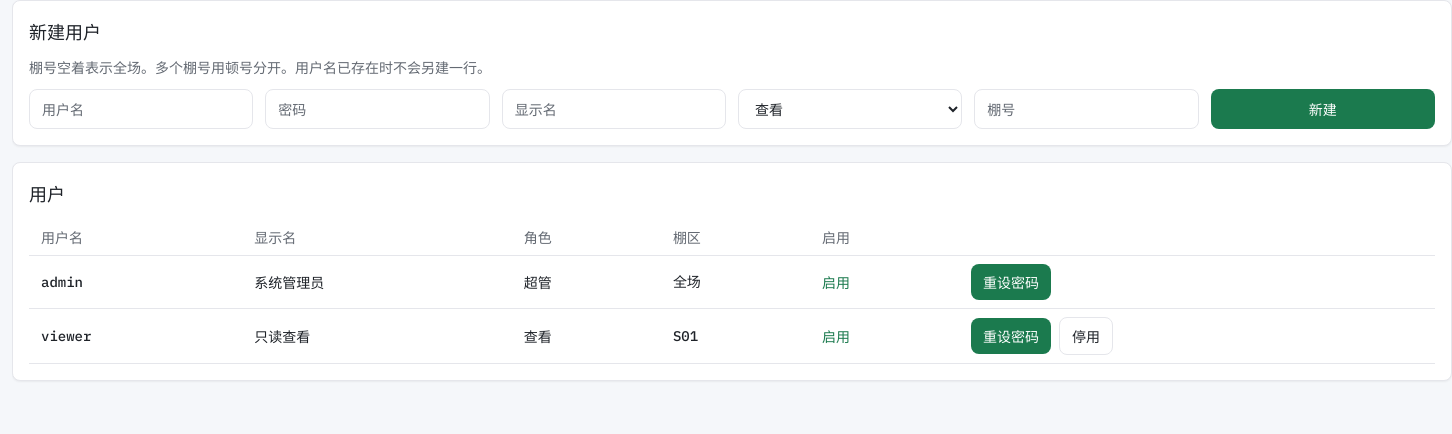
UsersView › toggles enable on another user and shows 启用 then 停用
Expected: the cell "启用" in the row of "viewer" is shown, [822, 326, 850, 346]
Click the button with test id "user-enabled-viewer".
click(1086, 336)  # box [1059, 317, 1113, 355]
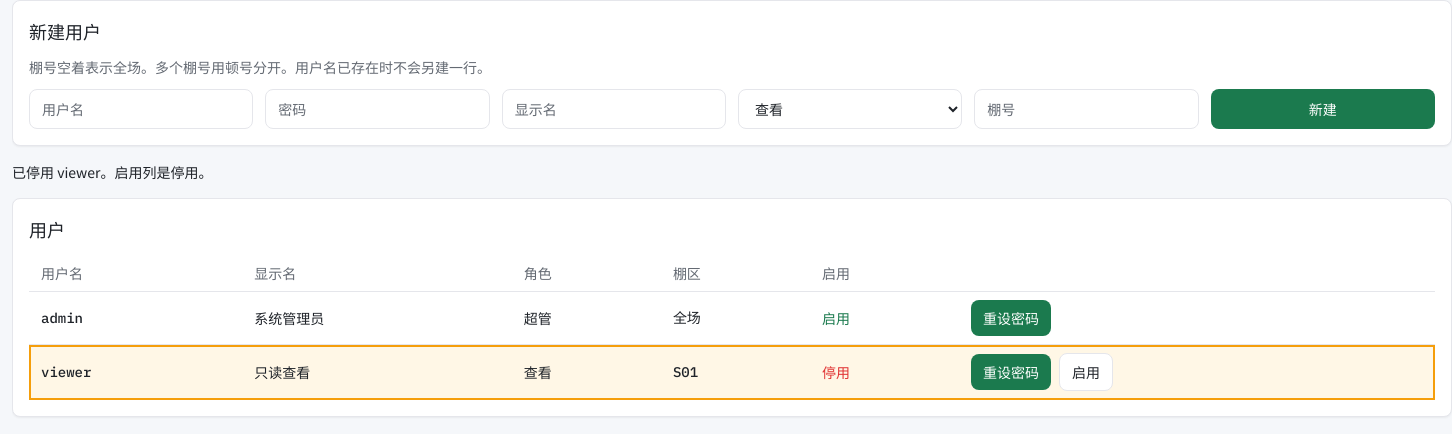
Result: the cell "停用" is shown at [810, 344, 959, 400]
Result: the button with test id "user-enabled-viewer" reads "启用"
Result: the text with test id "user-notice" shows "已停用 viewer" at [12, 162, 212, 182]
Click the button with test id "user-enabled-viewer".
click(1086, 372)  # box [1059, 353, 1113, 391]
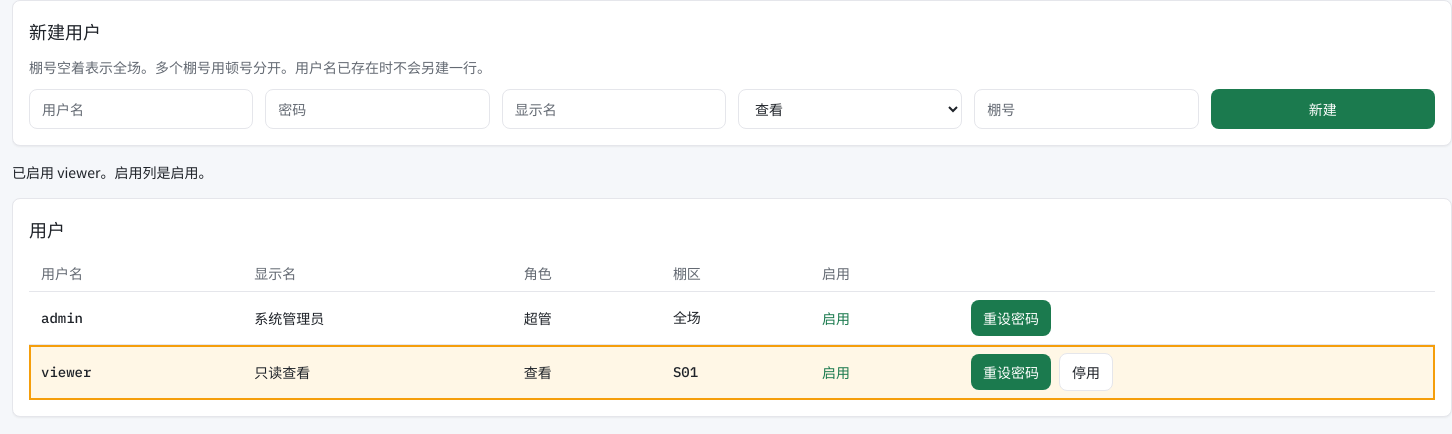
Result: the cell "启用" in the row of "只读查看" is shown at [822, 362, 850, 382]
Result: the text with test id "user-notice" shows "启用列是启用" at [12, 162, 212, 182]
